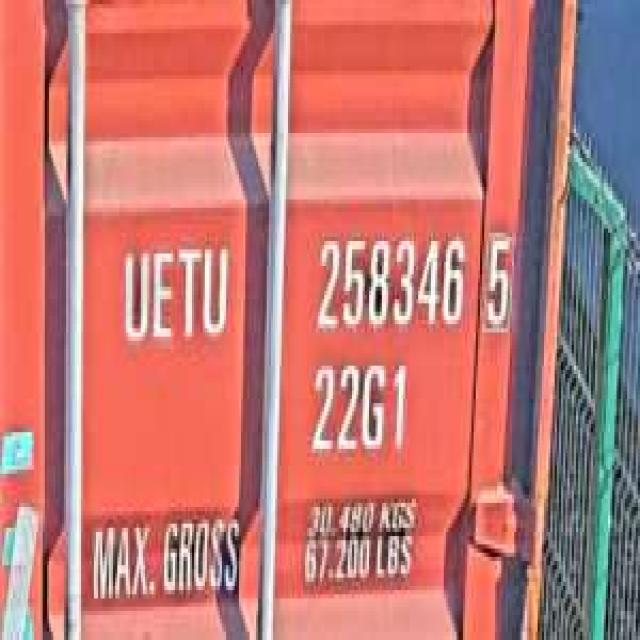dv: (480, 216, 516, 337)
owner: (118, 233, 232, 357)
serial: (312, 225, 467, 336)
size: (307, 349, 412, 461)
